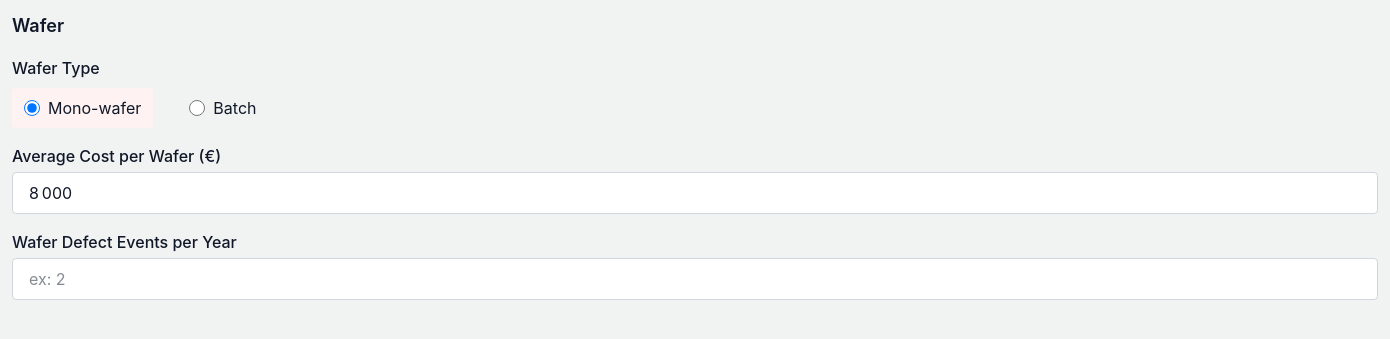
Test case: WaferInputs › shows error for negative defect events
Type "-3" into the number field labelled "Wafer Defect Events per Year" at (695, 279), box [12,258,1378,300]
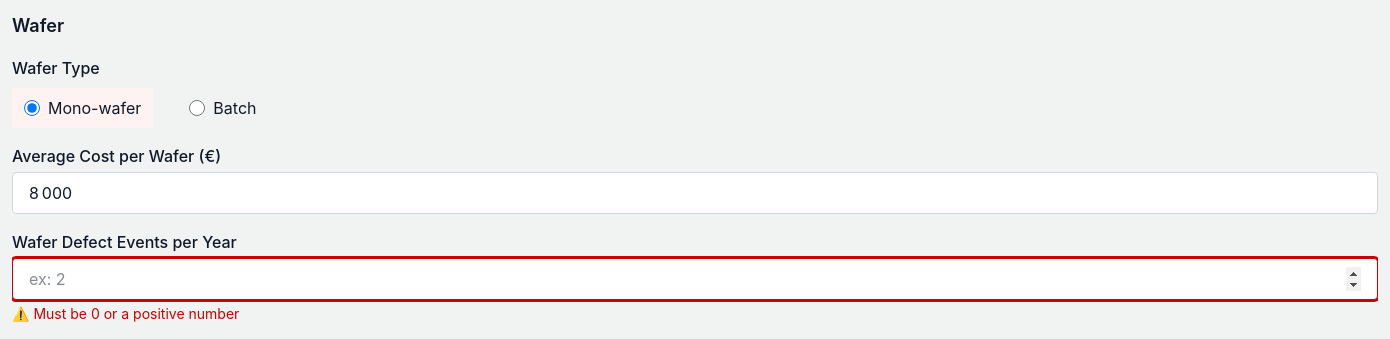
Check: the text "⚠️ Must be 0 or a positive number" is shown, box [12,305,239,322]
